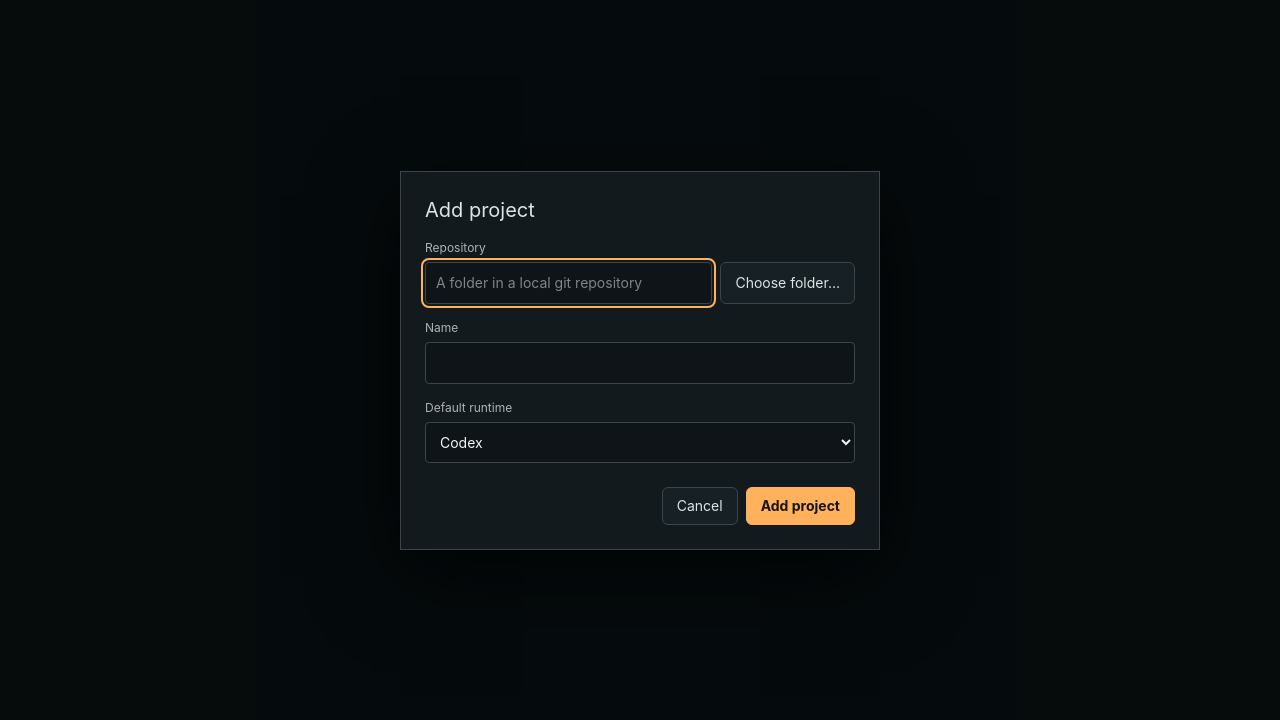
Test: AddProjectDialog › keeps a name the person typed, and says when it brings a project back
Type "Bakery app" into the field labelled "Name" at point(640, 362), box [425,342,855,384]
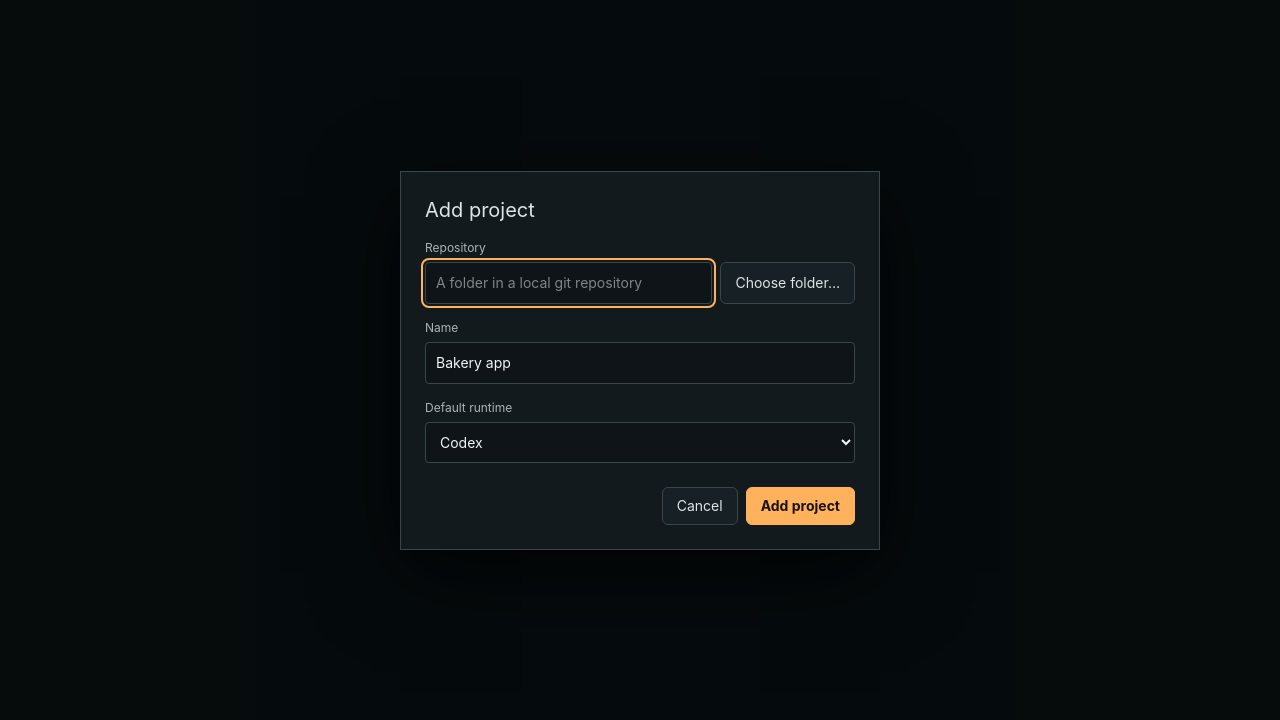
Type "/src/bakery" into the field named "Repository folder" at point(569, 282), box [425,262,712,304]
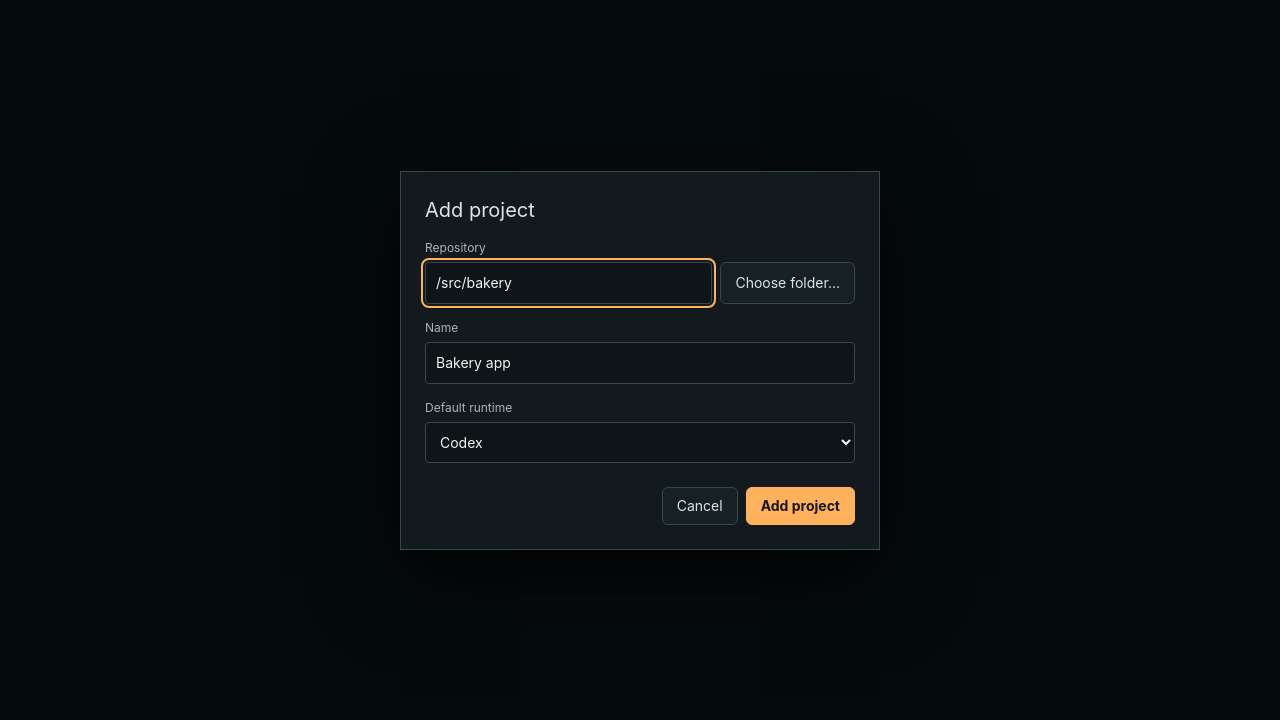
Leave the field named "Repository folder", box [425,262,712,304]
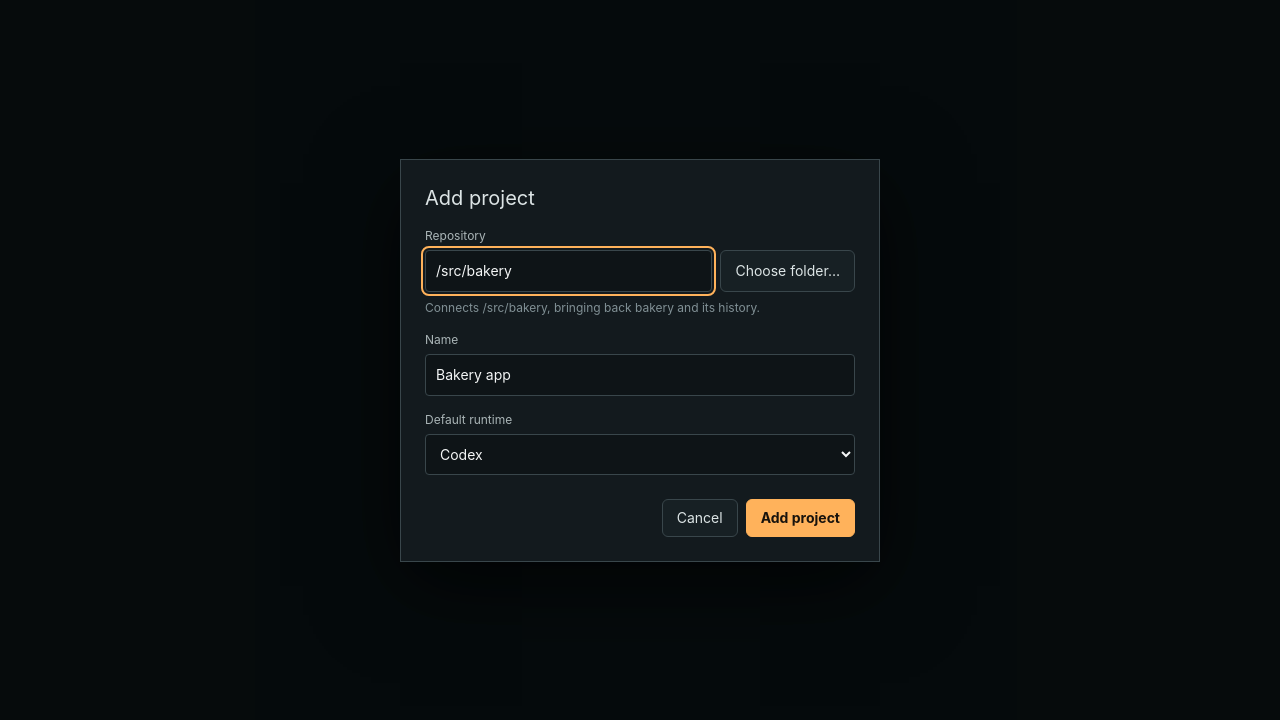
Check: the message shows "bringing back bakery and its history", box [547,300,757,314]
